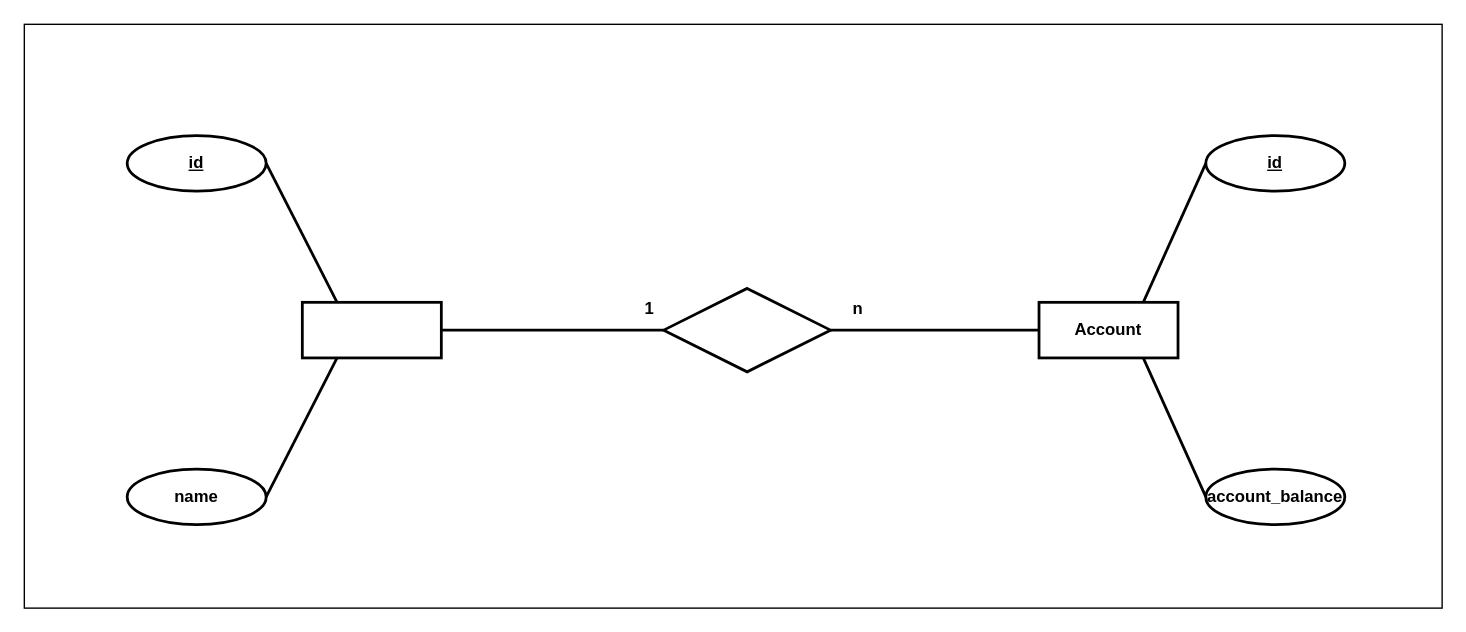
Image size: 1466x632. Some labels were removed from this diagram. Each missing label, with the box of its shape:
Client: (300, 300, 442, 359)
Có: (662, 286, 831, 373)
